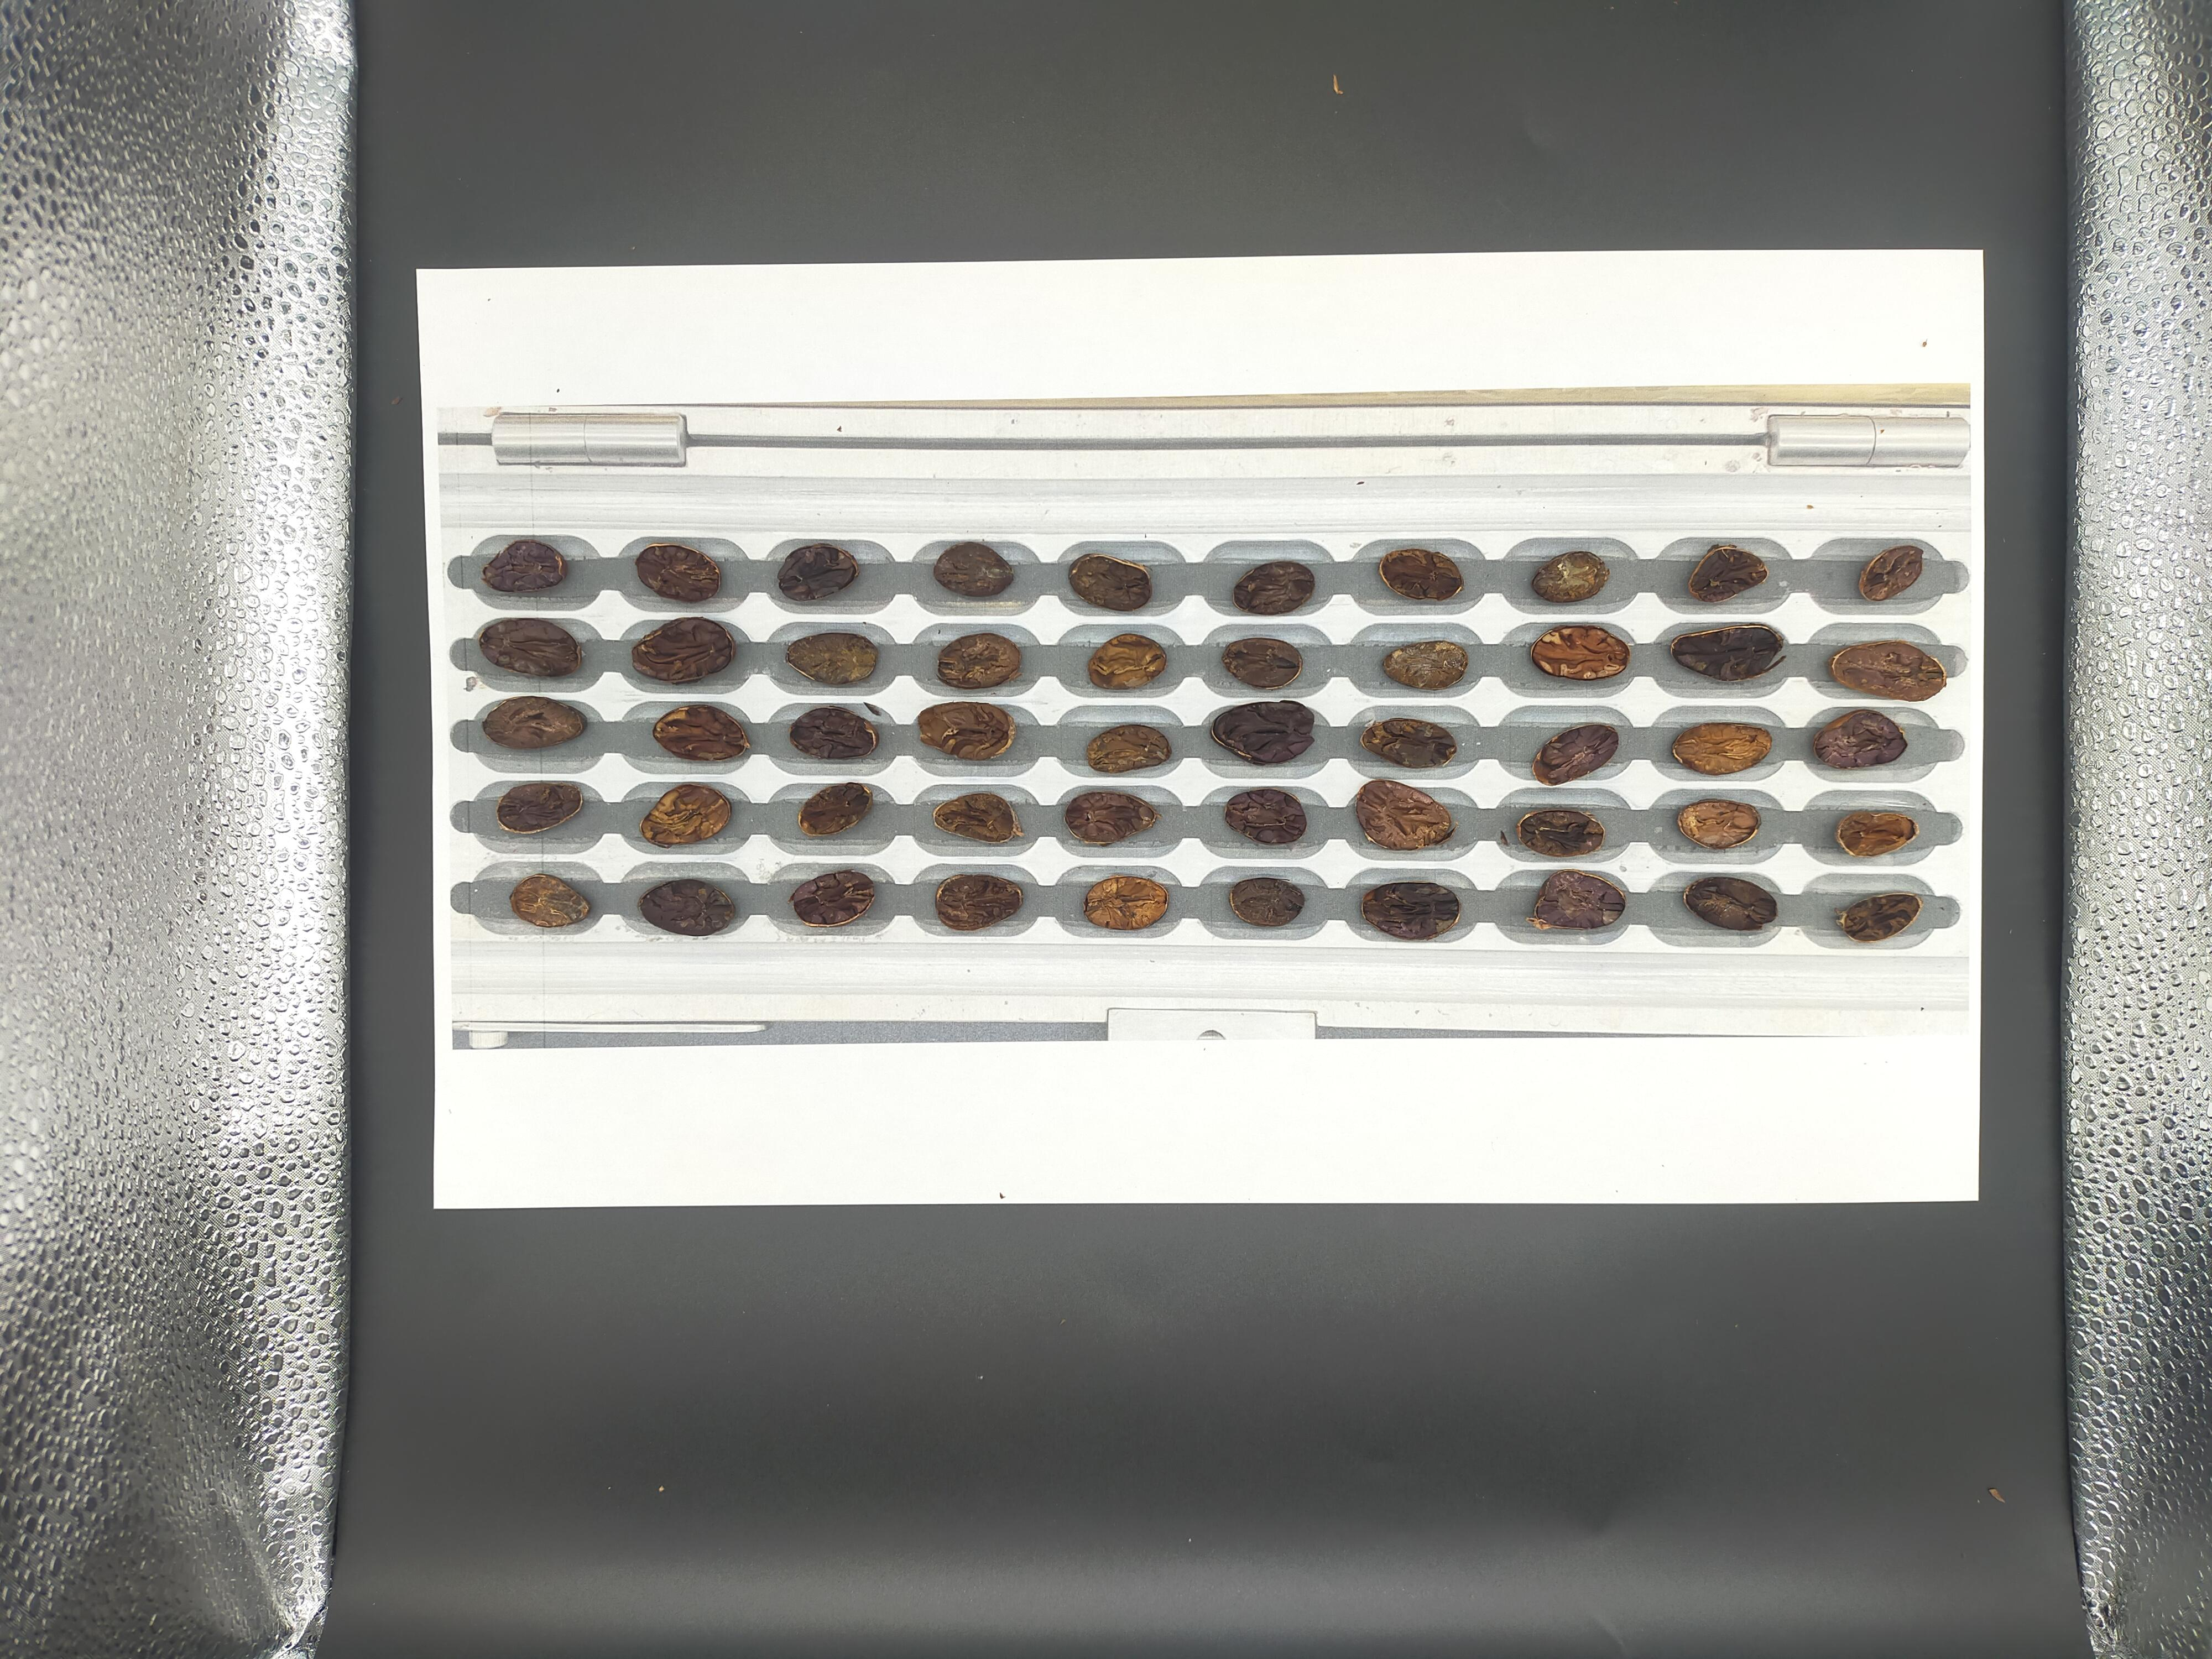Brown - G1: (320, 1124, 381, 1162), (333, 1168, 387, 1204), (782, 1127, 838, 1162), (939, 1222, 984, 1253)
Brown - G2: (693, 1206, 749, 1249), (326, 1209, 378, 1248), (542, 1213, 597, 1248), (554, 1131, 601, 1169), (469, 1169, 523, 1202), (324, 1086, 373, 1122), (475, 1256, 528, 1290), (704, 1086, 751, 1122), (474, 1215, 528, 1246), (406, 1208, 449, 1244)
Brown - G3: (934, 1134, 1001, 1171), (244, 1166, 307, 1197), (853, 1178, 911, 1209), (545, 1091, 596, 1124), (477, 1131, 524, 1166), (550, 1258, 601, 1290), (857, 1216, 904, 1249), (622, 1134, 671, 1166), (948, 1087, 989, 1124), (552, 1180, 603, 1209)
Insect-damaged: (401, 1131, 453, 1162)
Mouldy: (260, 1255, 307, 1290), (705, 1134, 756, 1166), (477, 1084, 523, 1119), (780, 1089, 827, 1122), (627, 1258, 671, 1288)
Partly Purple - G1: (617, 1168, 679, 1208), (401, 1253, 451, 1288)
Partly Purple - G2: (853, 1127, 918, 1164), (242, 1124, 301, 1159), (695, 1260, 751, 1295), (402, 1169, 455, 1202), (625, 1213, 672, 1246), (773, 1222, 826, 1251)
Partly Purple - G3: (780, 1180, 833, 1215)
Total Purple - G2: (246, 1084, 298, 1117)
Total Purple - G3: (780, 1255, 838, 1293), (925, 1171, 979, 1208)
Very Dark Brown - G1: (939, 1263, 988, 1298)
Very Dark Brown - G2: (251, 1206, 301, 1241), (397, 1086, 444, 1122), (860, 1087, 907, 1124), (629, 1094, 678, 1129)
Very Dark Brown - G3: (326, 1258, 381, 1293), (860, 1256, 913, 1290), (693, 1176, 749, 1206)
